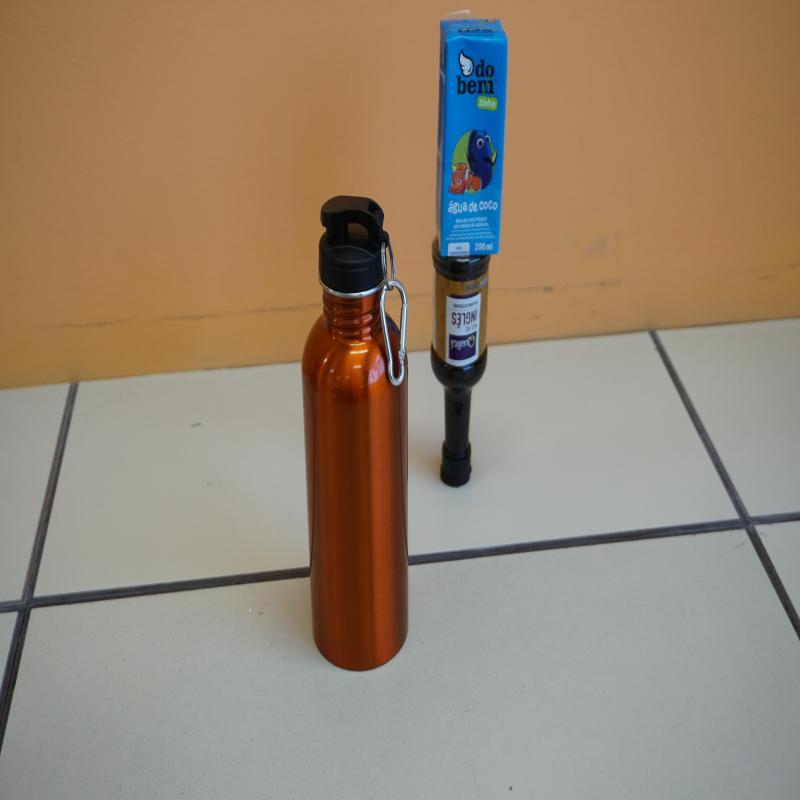CoconutWater: (436, 16, 508, 259)
EnglishSauce: (431, 238, 490, 488)
